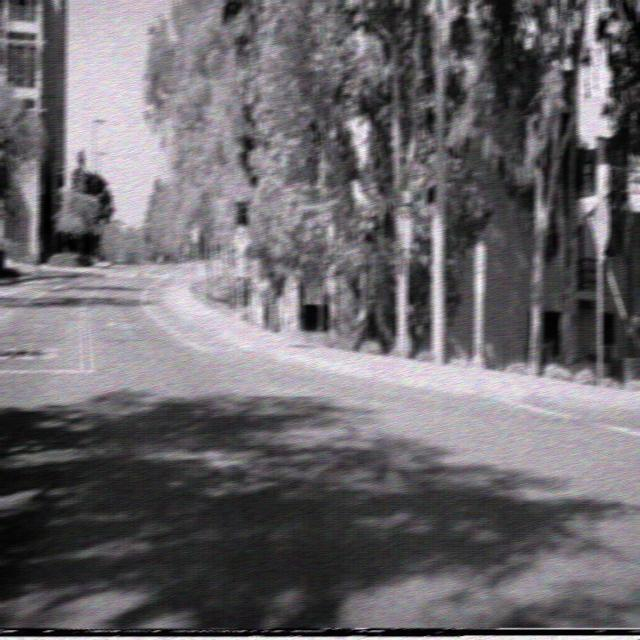pedestrianCrossing: (232, 222, 251, 257)
